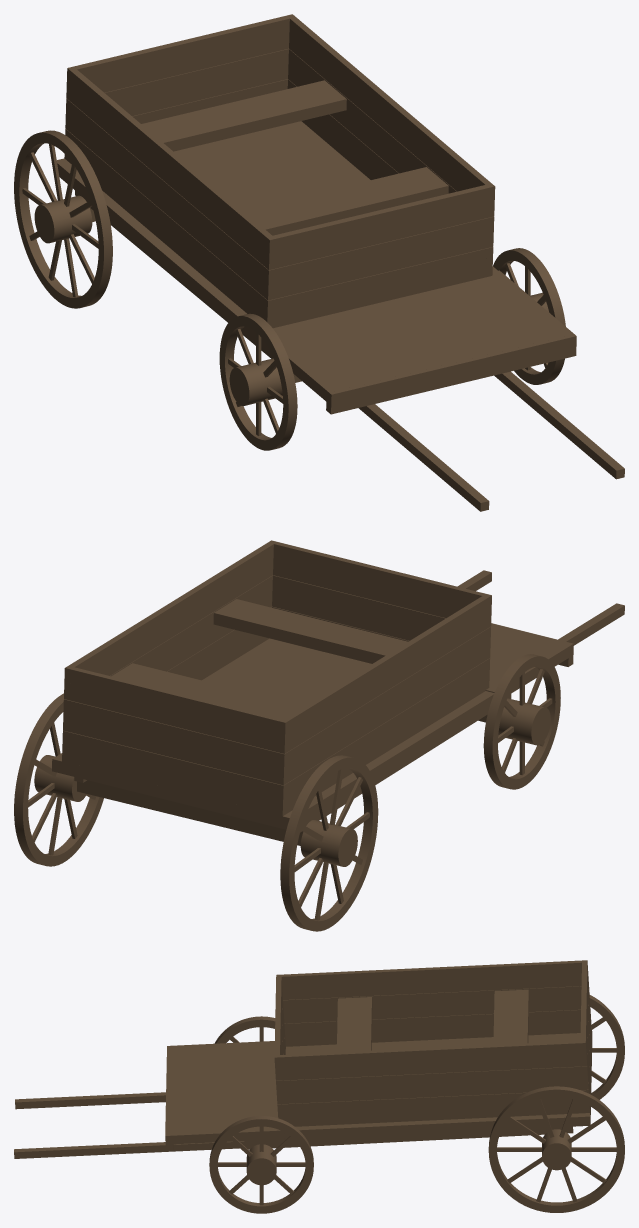
3 renders of one model, top to bottom at view 1: azimuth 30°, elevation 25°; view 2: azimuth 150°, elevation 25°; view 3: azimuth 270°, elevation 25°, orthographic. The views are drawn at different scales.
Parts seen in each view (by area): view 1: deck, bed, rim.002, side_plank.004, side_plank.005, end_plank.004, rim, end_plank.005, side_plank.002, end_plank.002, crossboard.002, end_plank (+10 smaller); view 2: bed, rim.002, side_plank.004, end_plank.005, side_plank.005, end_plank.004, end_plank.003, rim, side_plank.002, end_plank.001, rim.003, side_plank (+9 smaller); view 3: deck, side_plank.005, side_plank.004, side_plank.003, rim.003, side_plank.001, bed, side_plank.002, side_plank, rim.001, rail.001, shaft.003 (+8 smaller).
Boxes of the visible parts, left/top/right/bottom form: deck: left=261, top=270, right=573, bottom=403; bed: left=57, top=121, right=497, bottom=343; rim.002: left=14, top=130, right=112, bottom=308; side_plank.004: left=66, top=66, right=275, bottom=269; side_plank.005: left=287, top=14, right=495, bottom=217; end_plank.004: left=273, top=185, right=488, bottom=268; rim: left=219, top=313, right=297, bottom=450; end_plank.005: left=73, top=15, right=289, bottom=92; side_plank.002: left=65, top=98, right=275, bottom=300; end_plank.002: left=274, top=218, right=487, bottom=298; crossboard.002: left=141, top=80, right=346, bottom=151; end_plank: left=273, top=248, right=486, bottom=327; bed: left=52, top=638, right=494, bottom=829; rim.002: left=280, top=755, right=378, bottom=931; side_plank.004: left=278, top=594, right=491, bottom=753; end_plank.005: left=70, top=667, right=282, bottom=752; side_plank.005: left=64, top=540, right=276, bottom=700; end_plank.004: left=273, top=542, right=485, bottom=618; end_plank.003: left=69, top=700, right=278, bottom=783; rim: left=483, top=654, right=560, bottom=789; side_plank.002: left=277, top=626, right=490, bottom=785; end_plank.001: left=68, top=732, right=277, bottom=814; rim.003: left=14, top=693, right=103, bottom=866; side_plank: left=276, top=658, right=490, bottom=816; deck: left=169, top=1041, right=284, bottom=1144; side_plank.005: left=274, top=1040, right=587, bottom=1080; side_plank.004: left=276, top=960, right=588, bottom=999; side_plank.003: left=276, top=1066, right=588, bottom=1104; rim.003: left=488, top=1086, right=624, bottom=1212; side_plank.001: left=277, top=1089, right=589, bottom=1126; bed: left=279, top=1027, right=592, bottom=1140; side_plank.002: left=283, top=986, right=590, bottom=1023; side_plank: left=284, top=1009, right=591, bottom=1046; rim.001: left=209, top=1116, right=313, bottom=1213; rail.001: left=244, top=1126, right=573, bottom=1149; shaft.003: left=14, top=1141, right=244, bottom=1158.
Size of the model in its own units: 0.792 by 0.5253 by 1.8.
